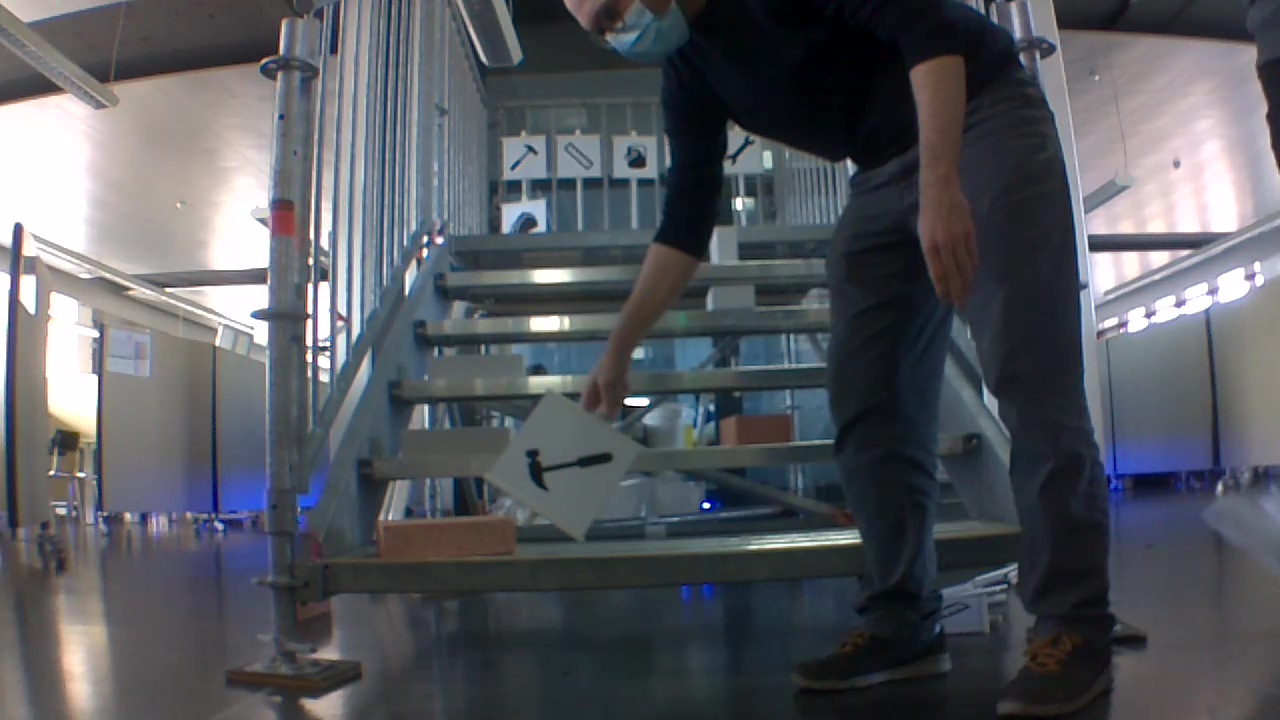brick: (379, 516, 512, 561), (405, 428, 505, 460), (428, 353, 527, 381), (721, 413, 789, 447), (709, 286, 752, 309), (712, 227, 736, 262)
bucket: (617, 139, 650, 171)
hammer: (521, 438, 615, 500), (505, 138, 541, 176)
ruler: (559, 138, 596, 172)
taco: (509, 208, 539, 235)
wrench: (724, 129, 757, 168)
